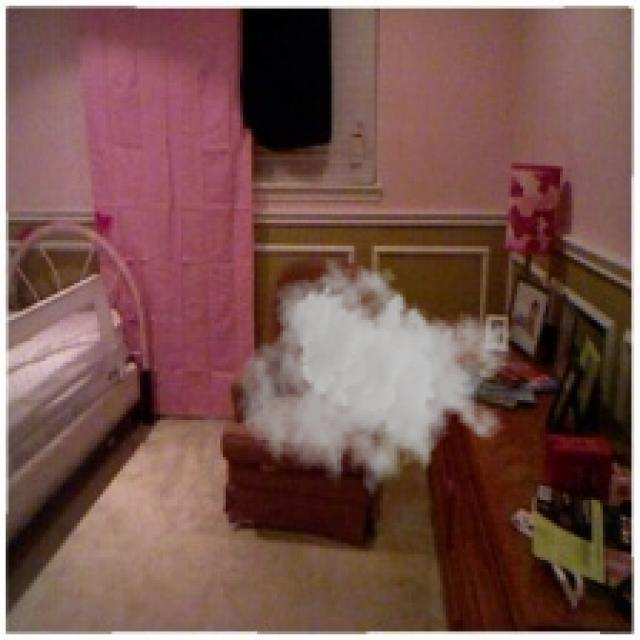smoke: (237, 257, 514, 509)
